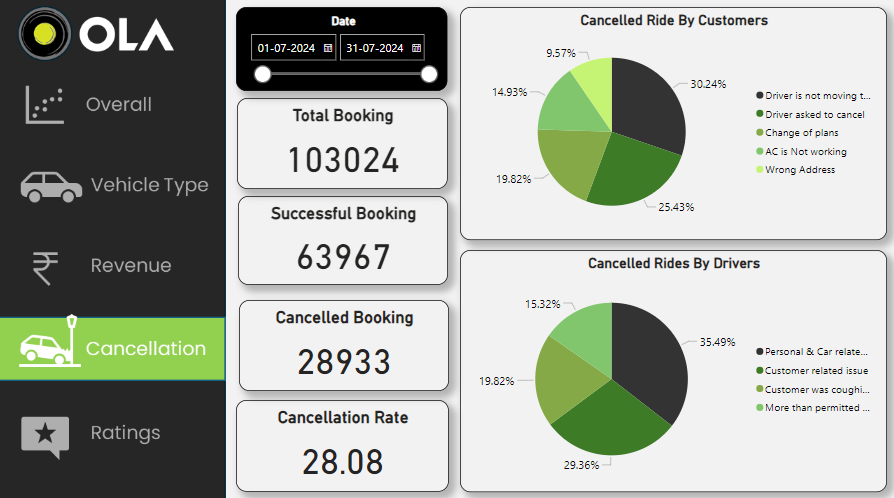

The dashboard page shown, as its layout file describes it:
{"tool":"powerbi","page":{"name":"Cancellation","canvas":[1280,720],"ordinal":3},"visuals":[{"type":"actionButton","box":[0,199.9,325.1,95.1],"z":0},{"type":"actionButton","box":[10,209.9,325.1,95.1],"z":1000},{"type":"actionButton","box":[0,219.1,325.1,108.4],"z":2000},{"type":"actionButton","box":[0,109.6,325.1,99.9],"z":3000},{"type":"actionButton","box":[0,337.1,325.1,119.2],"z":4000},{"type":"actionButton","box":[0,547.8,325.1,130],"z":5000},{"type":"pieChart","title":"Cancelled Ride By Customers","fields":{"Category":["July.Canceled_Rides_by_Customer"],"Y":["CountNonNull(July.Canceled_Rides_by_Customer)"]},"box":[658.3,12.7,610.5,333.4],"z":5001},{"type":"pieChart","title":"Cancelled Rides By Drivers","fields":{"Y":["CountNonNull(July.Canceled_Rides_by_Driver)"],"Category":["July.Canceled_Rides_by_Driver"]},"box":[658.3,360.1,610.5,333.4],"z":5002},{"type":"slicer","title":"Date","fields":{"Values":["July.Date"]},"box":[339,12.7,302.4,119.6],"z":5003},{"type":"card","title":" Total Booking ","fields":{"Values":["Count(July.Booking_ID)"]},"box":[339.6,142.7,302.5,114.2],"z":5004},{"type":"card","title":"Cancelled Booking ","fields":{"Values":["Count(July.Booking_ID)"]},"box":[342.5,416.7,299.7,119.9],"z":5005},{"type":"card","title":"Successful Booking ","fields":{"Values":["Count(July.Booking_ID)"]},"box":[341,282.5,301.1,114.2],"z":5006},{"type":"card","title":"Cancellation Rate ","fields":{"Values":["July.CanceledPercentage"]},"box":[341,548,301.1,145.6],"z":5007}]}

Visuals, with their boxes in screenshot pixels (x1, y1, x2, y2), scaled from the page's 1280x720 canvas onto the 894x498 screenshot:
actionButton: x1=0, y1=138, x2=227, y2=204
actionButton: x1=7, y1=145, x2=234, y2=211
actionButton: x1=0, y1=152, x2=227, y2=227
actionButton: x1=0, y1=76, x2=227, y2=145
actionButton: x1=0, y1=233, x2=227, y2=316
actionButton: x1=0, y1=379, x2=227, y2=469
"Cancelled Ride By Customers" pieChart: x1=460, y1=9, x2=886, y2=239
"Cancelled Rides By Drivers" pieChart: x1=460, y1=249, x2=886, y2=480
"Date" slicer: x1=237, y1=9, x2=448, y2=92
" Total Booking " card: x1=237, y1=99, x2=448, y2=178
"Cancelled Booking " card: x1=239, y1=288, x2=449, y2=371
"Successful Booking " card: x1=238, y1=195, x2=448, y2=274
"Cancellation Rate " card: x1=238, y1=379, x2=448, y2=480
